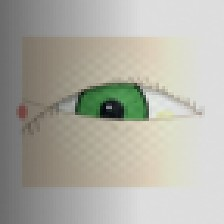pinguecula_lesion: (146, 101, 185, 133)
